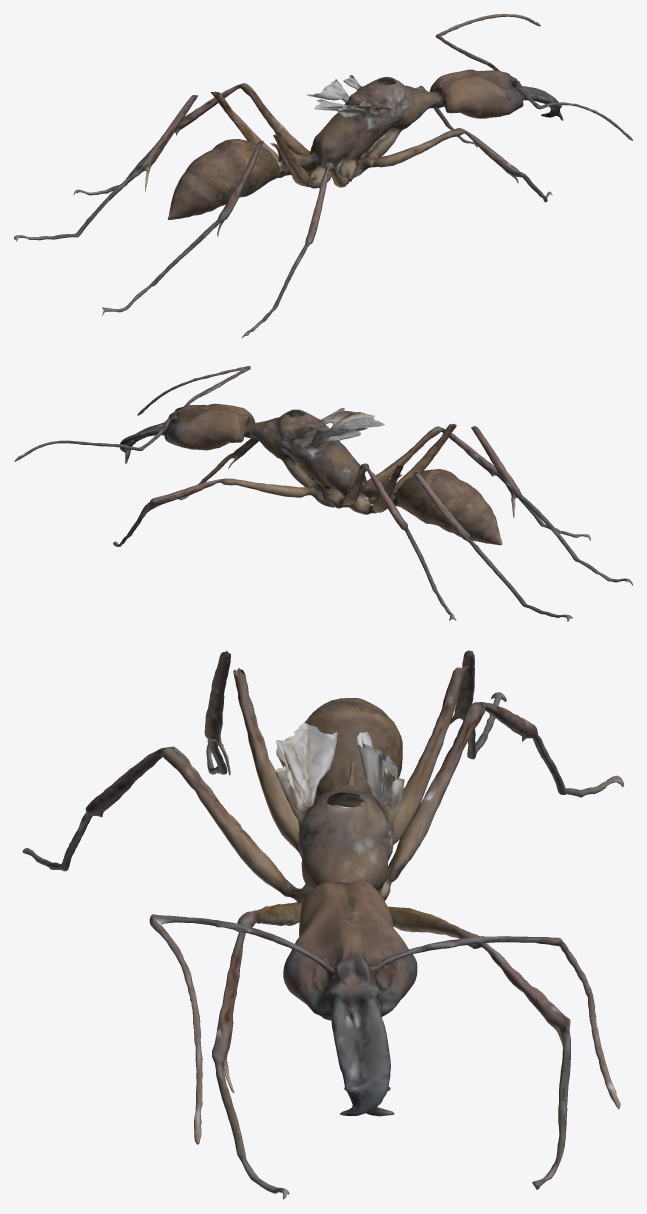
The model's file is odonto.glb.
3 renders of one model, top to bottom at view 1: azimuth 30°, elevation 25°; view 2: azimuth 150°, elevation 25°; view 3: azimuth 270°, elevation 25°, orthographic. The views are drawn at different scales.
Visible parts, largest first — view 1: odonto; view 2: odonto; view 3: odonto.
Part boxes in pixels (x1,y1,x2,y2): odonto: (14,14,632,337); odonto: (14,366,632,621); odonto: (22,650,623,1199).
Bounding box in the file's own units: 1.23 × 0.2983 × 0.6056.
